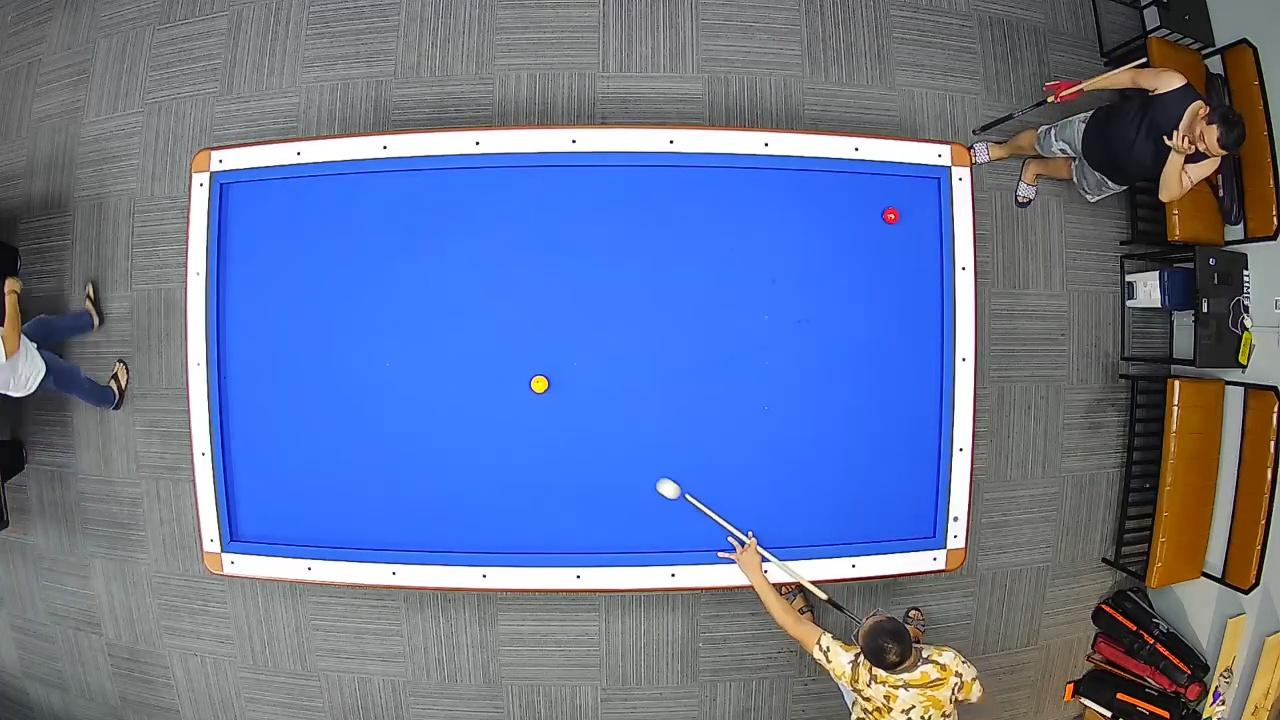Red: (880, 205, 900, 226)
White: (654, 476, 681, 502)
Yellow: (528, 374, 550, 395)
